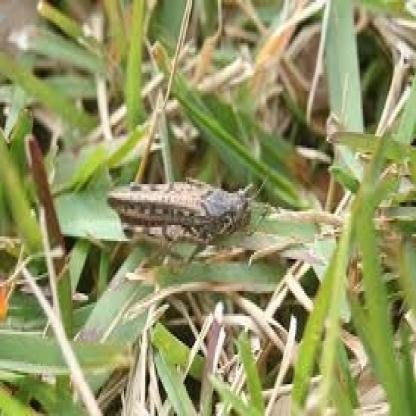grasshopper: (108, 169, 257, 270)
